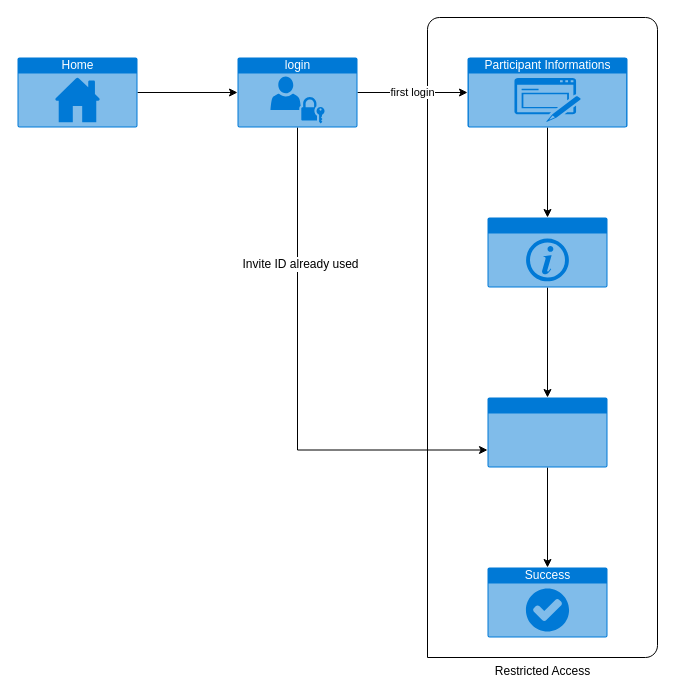
The diagram is 675 pixels wide and 696 high, and some of its shapes have lost their labels. Here are the shapes that lost their labels. From the top down, the box of each, then its label:
(487, 217, 607, 287): Instructions
(487, 397, 607, 467): Tasks
